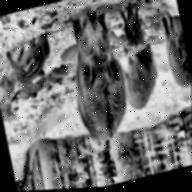boar: (43, 0, 124, 160), (114, 51, 171, 117), (0, 31, 58, 94), (157, 27, 191, 106)
